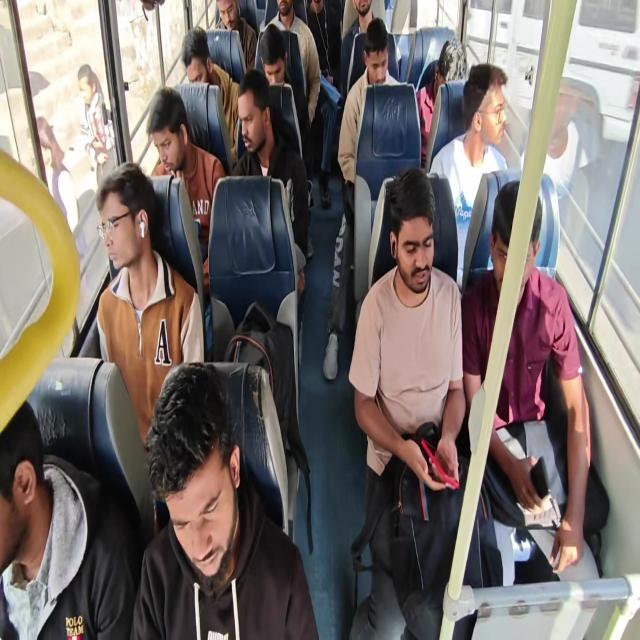person: (5, 1, 606, 638), (348, 166, 471, 638), (461, 178, 592, 582), (130, 360, 319, 638), (0, 399, 138, 639), (95, 161, 205, 451), (323, 17, 400, 380), (428, 62, 508, 290), (230, 68, 310, 296), (146, 86, 226, 288), (520, 80, 590, 200), (180, 26, 241, 162), (306, 0, 343, 208), (34, 115, 87, 259), (263, 0, 321, 128), (415, 38, 468, 168), (258, 23, 304, 157), (77, 63, 115, 186), (340, 0, 374, 101), (306, 0, 343, 88), (215, 0, 257, 74)
